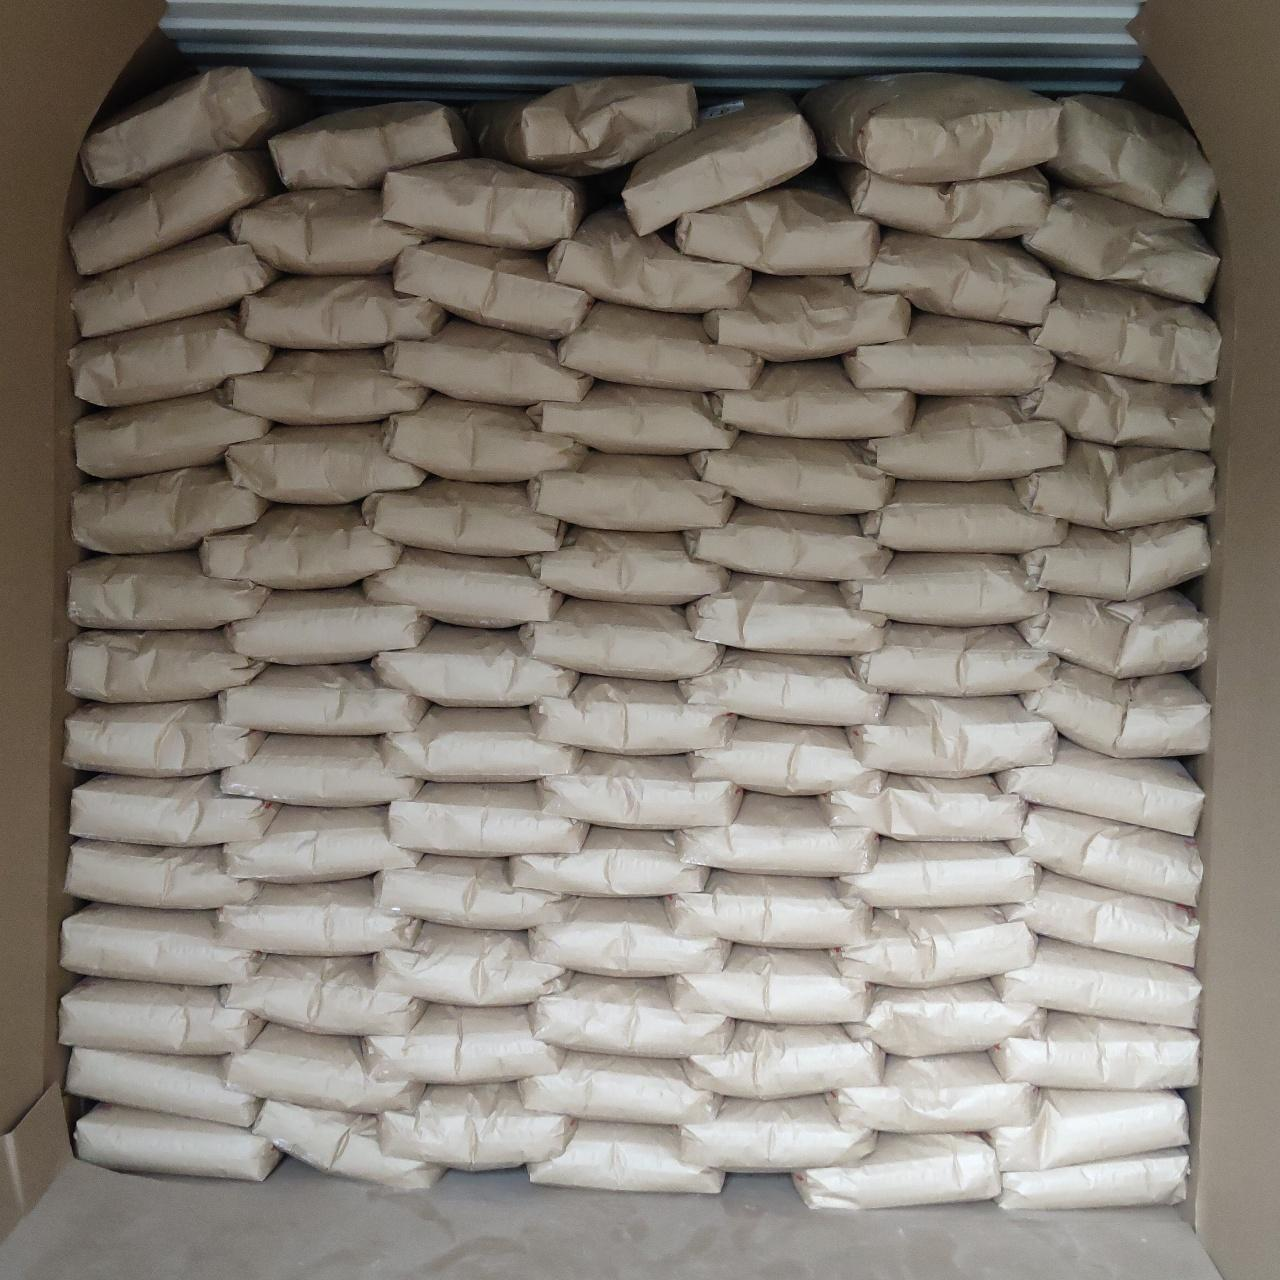sack: (82, 68, 312, 188), (802, 74, 1056, 181), (624, 96, 813, 230), (72, 150, 278, 272), (1022, 186, 1216, 302), (470, 79, 694, 173), (72, 232, 278, 334), (1044, 96, 1214, 218), (1028, 274, 1218, 382), (550, 207, 750, 309), (998, 738, 1201, 835), (70, 309, 270, 406), (394, 240, 590, 338), (852, 230, 1054, 324), (676, 176, 878, 270), (1008, 806, 1201, 903), (994, 937, 1198, 1026), (1005, 872, 1198, 964), (560, 304, 760, 390), (1022, 663, 1208, 756), (844, 312, 1054, 394), (386, 320, 590, 404), (1016, 440, 1214, 526), (384, 159, 583, 246), (270, 102, 470, 188), (384, 394, 586, 478), (704, 275, 910, 358), (224, 1024, 420, 1110), (1017, 362, 1212, 448), (76, 390, 270, 476), (1017, 590, 1206, 676), (200, 506, 399, 588), (74, 467, 268, 550), (530, 974, 731, 1054), (678, 794, 876, 874), (864, 399, 1064, 478), (847, 696, 1054, 774), (712, 360, 914, 438), (520, 598, 720, 678), (256, 1102, 438, 1189), (686, 574, 884, 654), (232, 190, 430, 270), (374, 624, 574, 702), (828, 1054, 1034, 1130), (840, 162, 1046, 238), (380, 1084, 570, 1166), (62, 904, 260, 982), (376, 924, 568, 1005), (226, 586, 430, 662), (74, 1104, 278, 1180), (686, 504, 888, 580), (60, 978, 263, 1054), (690, 434, 892, 510), (532, 676, 734, 753), (668, 946, 870, 1022), (365, 478, 566, 554), (224, 956, 422, 1034), (794, 1133, 998, 1208), (986, 1090, 1186, 1166), (527, 452, 734, 526), (365, 1005, 561, 1082), (992, 1012, 1198, 1085), (226, 424, 422, 502), (365, 549, 560, 626), (527, 527, 726, 604), (70, 552, 268, 628), (682, 651, 886, 724), (666, 872, 870, 946), (66, 697, 263, 774), (540, 753, 740, 828), (530, 898, 726, 974), (68, 1048, 258, 1126), (240, 275, 444, 348), (218, 878, 418, 952), (836, 908, 1034, 982), (846, 980, 1044, 1054), (222, 350, 425, 422), (527, 382, 734, 452), (72, 774, 278, 844), (686, 1022, 881, 1096), (382, 706, 578, 779), (226, 806, 418, 881), (688, 719, 880, 794), (680, 1096, 874, 1170), (220, 663, 424, 734), (852, 624, 1056, 694), (1022, 520, 1206, 598), (840, 554, 1046, 622), (520, 1051, 719, 1122), (862, 482, 1065, 550), (376, 856, 572, 926), (390, 784, 586, 855), (68, 629, 263, 700), (222, 736, 420, 804), (838, 840, 1039, 906), (822, 774, 1026, 838), (530, 1122, 722, 1190), (512, 828, 706, 894), (68, 840, 256, 908), (1000, 1150, 1186, 1208)
